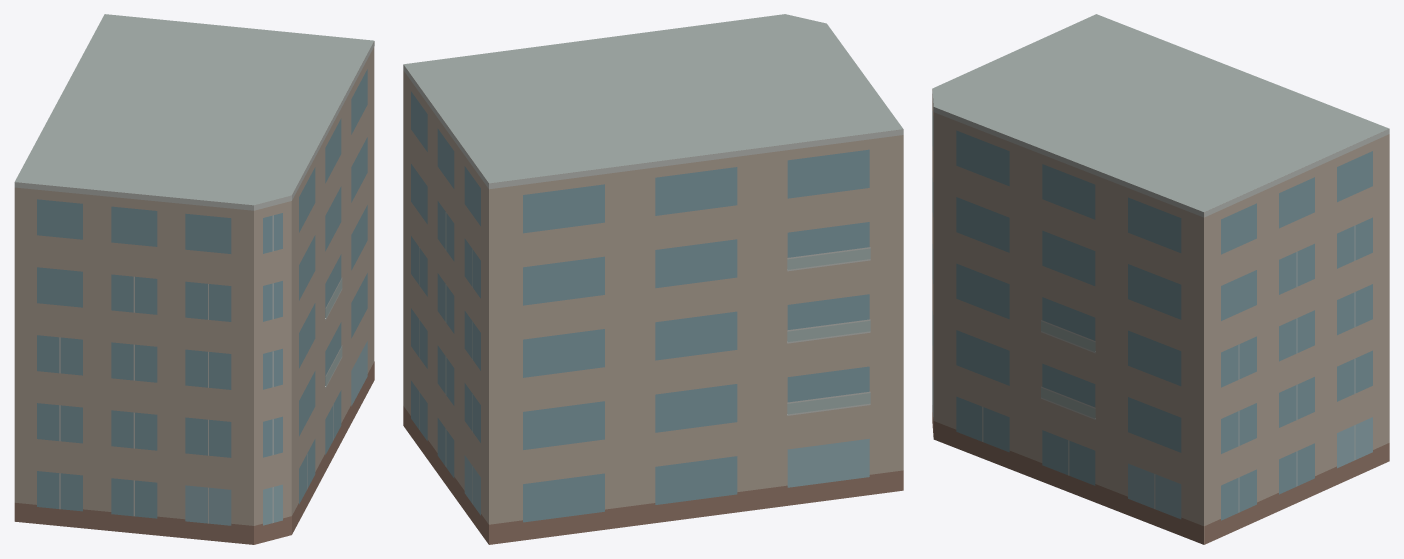
The model's file is survey-upis-32669065.glb.
The picture shows the model from 3 angles, left to right: view 1: azimuth 30°, elevation 25°; view 2: azimuth 150°, elevation 25°; view 3: azimuth 270°, elevation 25°; orthographic projection. The views are drawn at different scales.
Parts seen in each view (by area): view 1: survey-upis-32669065.tmp; view 2: survey-upis-32669065.tmp; view 3: survey-upis-32669065.tmp.
Part boxes in pixels (x1=…): survey-upis-32669065.tmp: x1=14, y1=14, x2=374, y2=544; survey-upis-32669065.tmp: x1=403, y1=14, x2=903, y2=544; survey-upis-32669065.tmp: x1=932, y1=14, x2=1389, y2=544.
Size of the model in its own units: 19.45 by 15.2 by 18.94.
